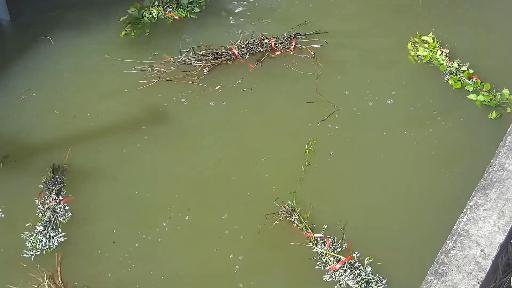twig: (260, 127, 419, 288), (131, 18, 339, 90), (396, 31, 511, 114), (29, 145, 88, 288), (109, 0, 220, 48)
